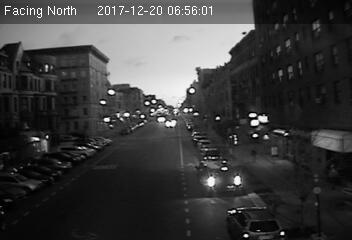car: (224, 204, 285, 240)
truck: (196, 157, 245, 195)
